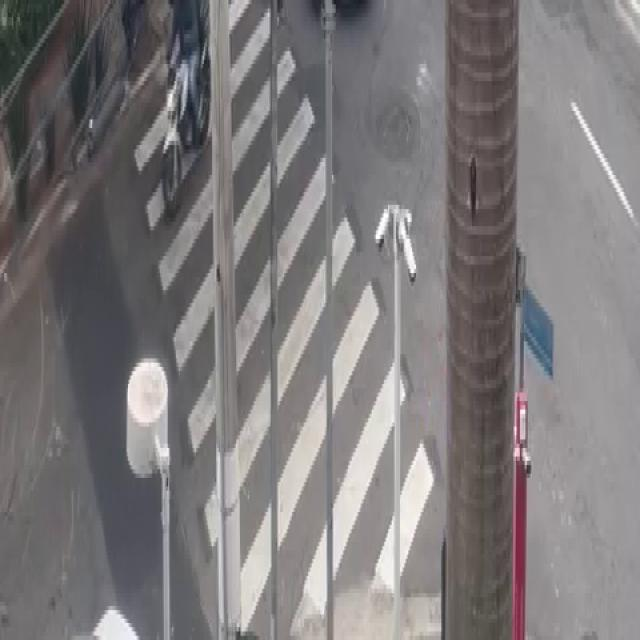motorbike: (140, 32, 228, 225)
